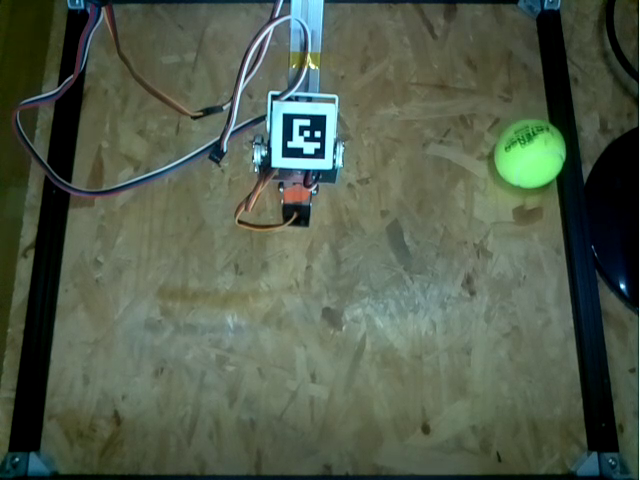tennis_ball: (494, 118, 567, 188)
